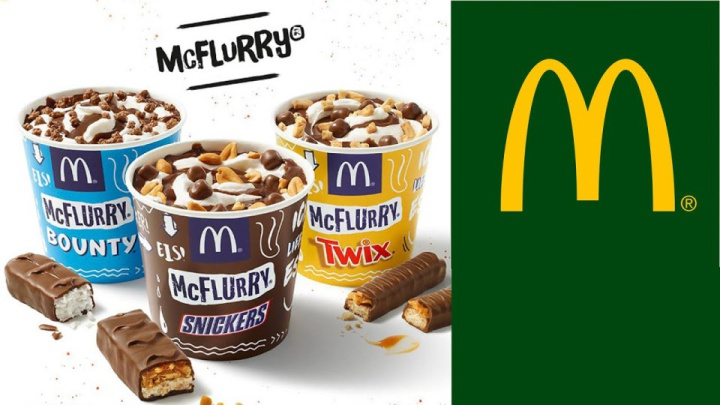mcdonalds: (491, 41, 685, 233), (195, 224, 245, 255), (332, 157, 375, 192), (57, 155, 98, 187)
